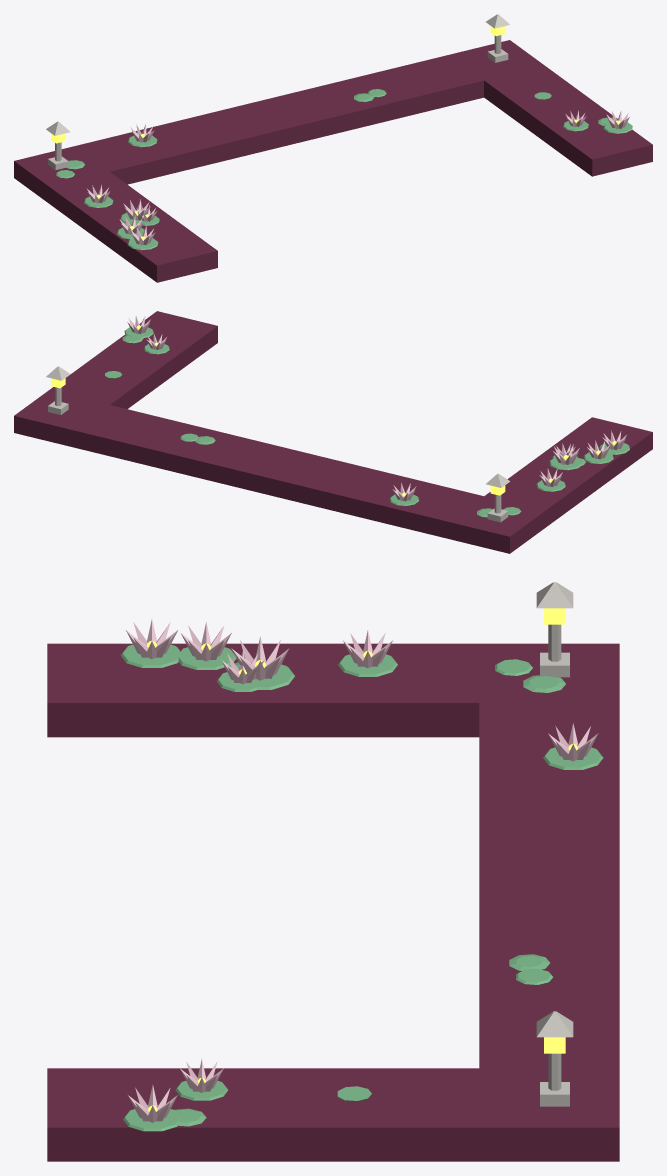
File: lotus.glb
3 renders of one model, top to bottom at view 1: azimuth 30°, elevation 25°; view 2: azimuth 150°, elevation 25°; view 3: azimuth 270°, elevation 25°, orthographic. The views are drawn at different scales.
Visible parts, largest first — view 1: field_lotus; view 2: field_lotus; view 3: field_lotus.
Boxes of the visible parts, box(x1,y1,x2,y2) form: field_lotus: box(14, 14, 652, 282); field_lotus: box(14, 311, 652, 553); field_lotus: box(47, 582, 619, 1161).
Size of the model in its own units: 10.7 by 1.25 by 5.3.
